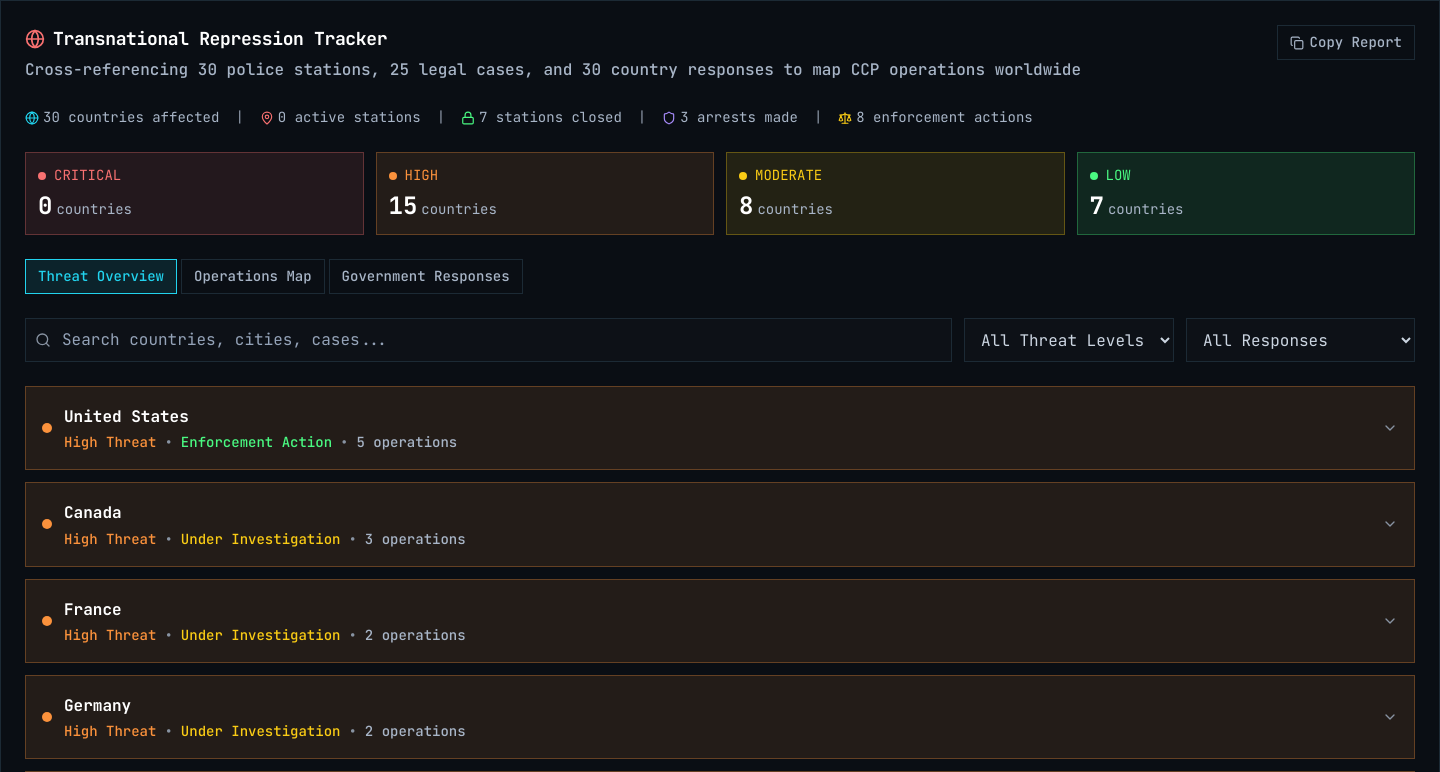
TransnationalRepressionTracker › clicking expanded country card collapses it
The width and height of the screenshot is (1440, 772).
What coordinates should you click on to do the following:
click the button that starts with "United States"
I would click on:
 (126, 417)
Its box is [26,387,1414,469].
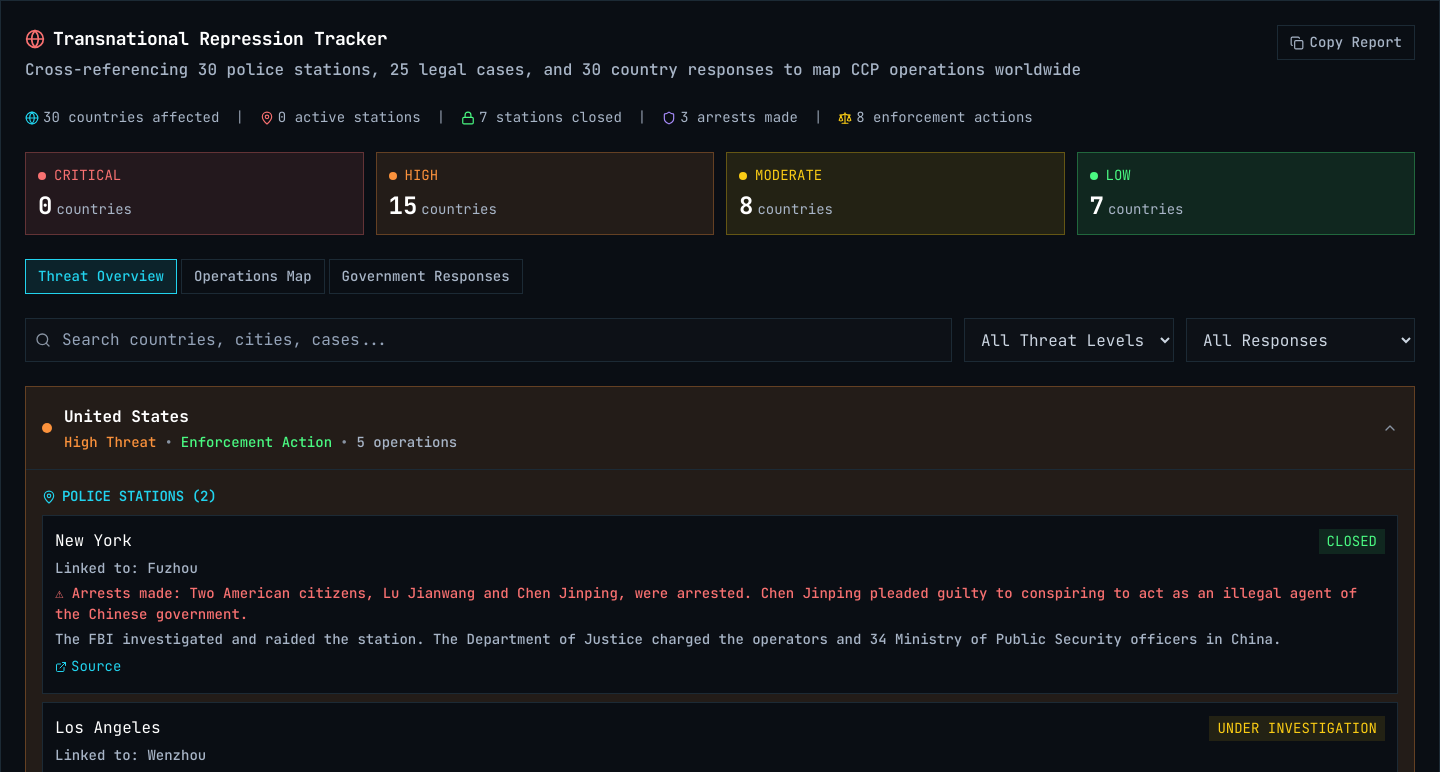
Now the button that starts with "United States" is expanded
What coordinates should you click on to do the following:
click the button that starts with "United States"
I would click on:
 (126, 417)
Its box is [26,387,1414,469].
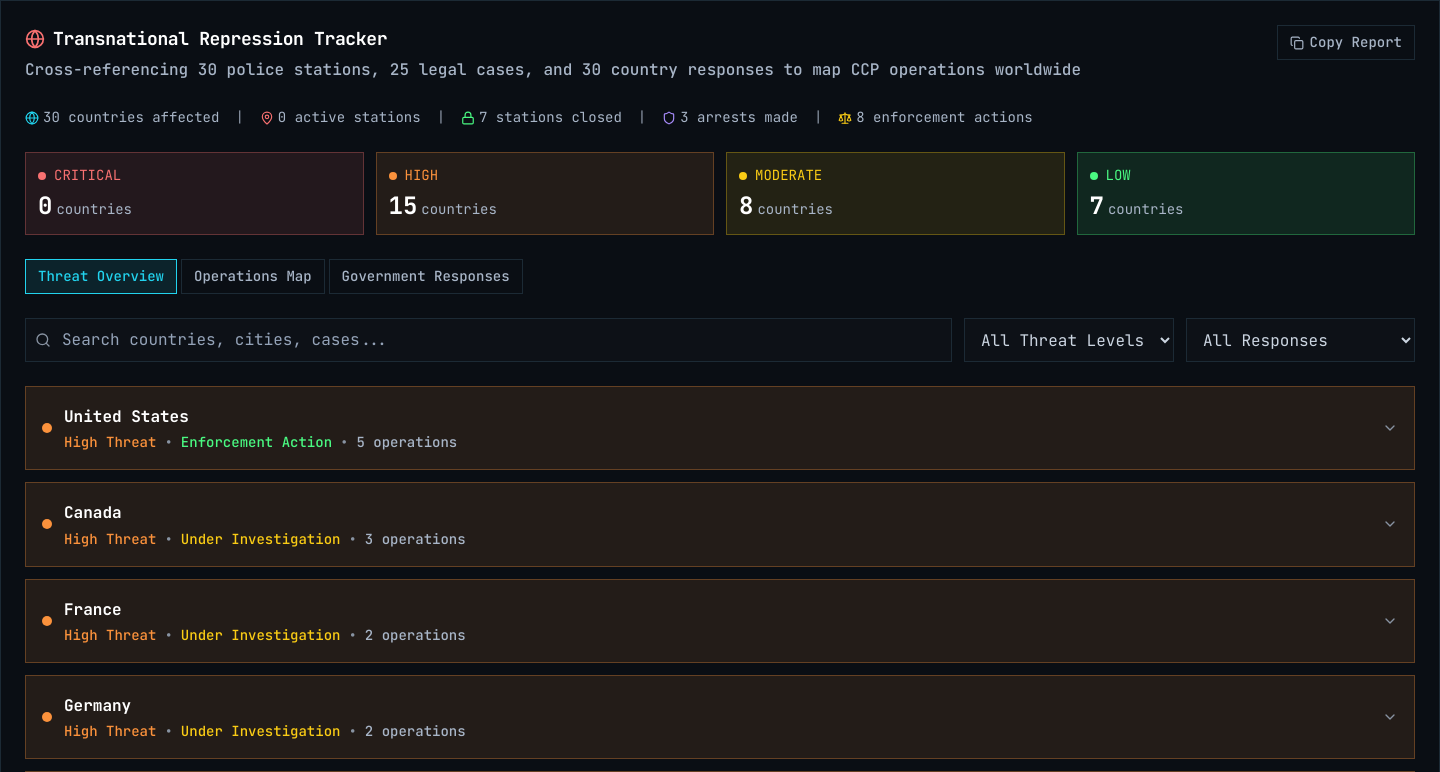
Now the button that starts with "United States" is collapsed, box [26,387,1414,469]
